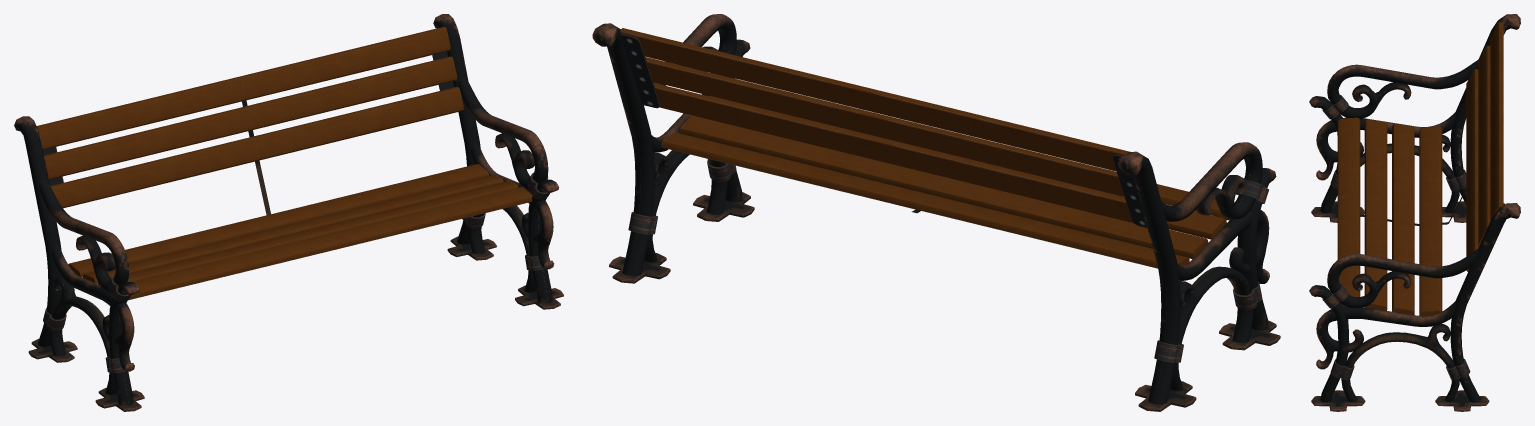
File: bench_2.glb
3 renders of one model, left to right at view 1: azimuth 30°, elevation 25°; view 2: azimuth 150°, elevation 25°; view 3: azimuth 270°, elevation 25°, orthographic. The views are drawn at different scales.
Visible parts, largest first — view 1: Object_2; view 2: Object_2; view 3: Object_2.
Part boxes in pixels (x1,y1,x2,y2): Object_2: [14, 14, 563, 411]; Object_2: [592, 14, 1280, 411]; Object_2: [1309, 14, 1520, 411].
Bounding box in the file's own units: 11.93 × 5.27 × 5.12.
Materials: 1 (1 with a texture image).
